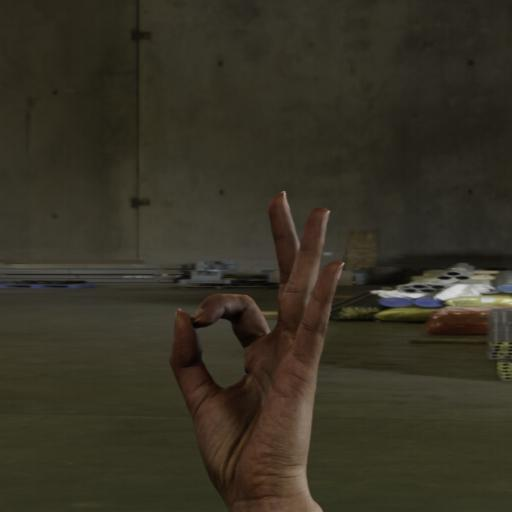F: (154, 178, 364, 512)
